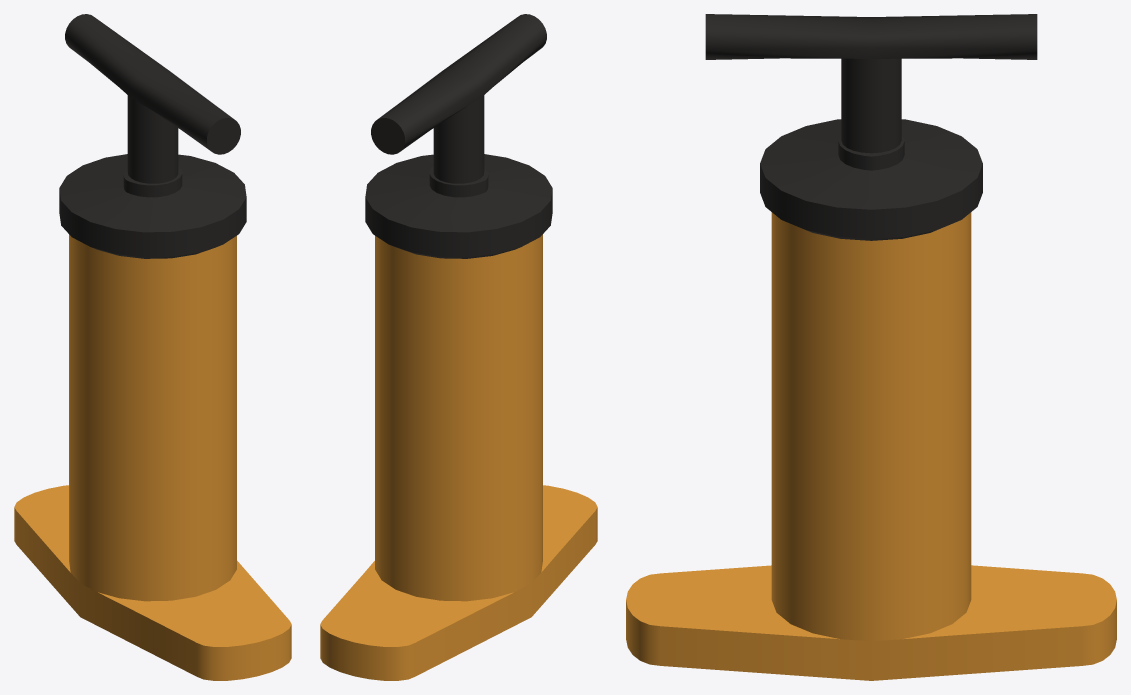
Rendered from balloonpump.fbx.
The picture shows the model from 3 angles, left to right: view 1: azimuth 30°, elevation 25°; view 2: azimuth 150°, elevation 25°; view 3: azimuth 270°, elevation 25°; orthographic projection. The views are drawn at different scales.
Visible parts, largest first — view 1: Cylinder; view 2: Cylinder; view 3: Cylinder.
Part boxes in pixels (<box>): Cylinder: <box>14,14,291,680</box>; Cylinder: <box>320,14,597,680</box>; Cylinder: <box>626,14,1116,680</box>.
Bounding box in the file's own units: 17.2 × 54.01 × 38.53.
